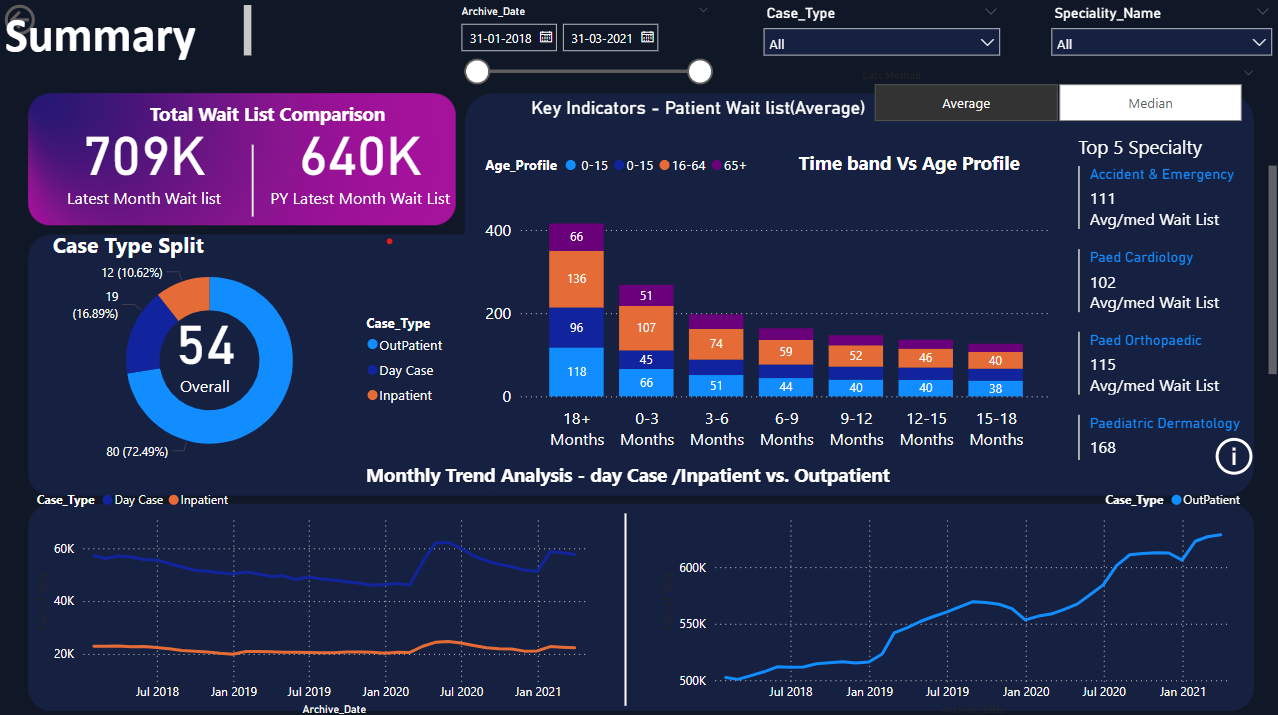

This screenshot's page, from the dashboard's own definition file:
{"tool":"powerbi","page":{"name":"Summary ","canvas":[1280,720],"ordinal":0},"visuals":[{"type":"card","fields":{"Values":["All_Data.Latest Month Wait list"]},"box":[32,96,224,128],"z":0},{"type":"card","fields":{"Values":["All_Data.PY Latest Month Wait List"]},"box":[256,96,208,128],"z":1000},{"type":"slicer","fields":{"Values":["Calculation Method.Calc Method"]},"box":[848,64,416,64],"z":2000},{"type":"actionButton","box":[0,0,100,40],"z":3000},{"type":"donutChart","fields":{"Category":["All_Data.Case_Type"],"Y":["All_Data.Avg/med Wait List"]},"box":[48,240,408,240],"z":4000},{"type":"columnChart","fields":{"Category":["All_Data.Time_Bands"],"Y":["All_Data.Avg/med Wait List"],"Series":["All_Data.Age_Profile"]},"box":[480,144,576,312],"z":5000},{"type":"multiRowCard","fields":{"Values":["All_Data.Speciality_Name","All_Data.Avg/med Wait List"]},"box":[1072,160,208,304],"z":6000},{"type":"card","fields":{"Values":["All_Data.NODataLeft"]},"box":[96,560,352,96],"z":7000},{"type":"lineChart","fields":{"Category":["All_Data.Archive_Date"],"Y":["Sum(All_Data.Total)"],"Series":["All_Data.Case_Type"]},"box":[32,480,560,240],"z":8000},{"type":"card","fields":{"Values":["All_Data.NODataRight"]},"box":[744,552,360,96],"z":9000},{"type":"lineChart","fields":{"Category":["All_Data.Archive_Date"],"Y":["Sum(All_Data.Total)"],"Series":["All_Data.Case_Type"]},"box":[656,480,592,240],"z":10000},{"type":"slicer","fields":{"Values":["All_Data.Archive_Date"]},"box":[448,0,272,96],"z":11000},{"type":"slicer","fields":{"Values":["All_Data.Case_Type"]},"box":[752,0,256,80],"z":12000},{"type":"slicer","fields":{"Values":["All_Data.Speciality_Name"]},"box":[1040,0,240,80],"z":13000},{"type":"textbox","box":[0,0,256,64],"z":14000},{"type":"card","fields":{"Values":["All_Data.Avg/med Wait List"]},"box":[144,288,120,120],"z":15000},{"type":"shape","box":[168,144,168,72],"z":16000},{"type":"textbox","box":[144,96,288,48],"z":17000},{"type":"textbox","box":[792,144,264,48],"z":18000},{"type":"textbox","box":[48,224,192,48],"z":19000},{"type":"textbox","box":[360,456,576,48],"z":20000},{"type":"textbox","box":[1072,128,176,48],"z":21000},{"type":"card","fields":{"Values":["All_Data.Dynamic Title"]},"box":[504,72,384,72],"z":22000},{"type":"shape","box":[544,512,160,192],"z":23000},{"type":"actionButton","box":[1200,432,64,48],"z":24000}]}

Visuals, with their boxes in screenshot pixels (x1, y1, x2, y2), scaled from the page's 1280x720 canvas onto the 1278x715 screenshot:
card - All_Data.Latest Month Wait list: 32:95:256:222
card - All_Data.PY Latest Month Wait List: 256:95:463:222
slicer - Calculation Method.Calc Method: 847:64:1262:127
actionButton: 0:0:100:40
donutChart - All_Data.Case_Type x All_Data.Avg/med Wait List: 48:238:455:477
columnChart - All_Data.Time_Bands x All_Data.Avg/med Wait List: 479:143:1054:453
multiRowCard - All_Data.Speciality_Name x All_Data.Avg/med Wait List: 1070:159:1277:461
card - All_Data.NODataLeft: 96:556:447:651
lineChart - All_Data.Archive_Date x Sum(All_Data.Total): 32:477:591:714
card - All_Data.NODataRight: 743:548:1102:644
lineChart - All_Data.Archive_Date x Sum(All_Data.Total): 655:477:1246:714
slicer - All_Data.Archive_Date: 447:0:719:95
slicer - All_Data.Case_Type: 751:0:1006:79
slicer - All_Data.Speciality_Name: 1038:0:1277:79
textbox: 0:0:256:64
card - All_Data.Avg/med Wait List: 144:286:264:405
shape: 168:143:335:214
textbox: 144:95:431:143
textbox: 791:143:1054:191
textbox: 48:222:240:270
textbox: 359:453:935:500
textbox: 1070:127:1246:175
card - All_Data.Dynamic Title: 503:72:887:143
shape: 543:508:703:699
actionButton: 1198:429:1262:477
